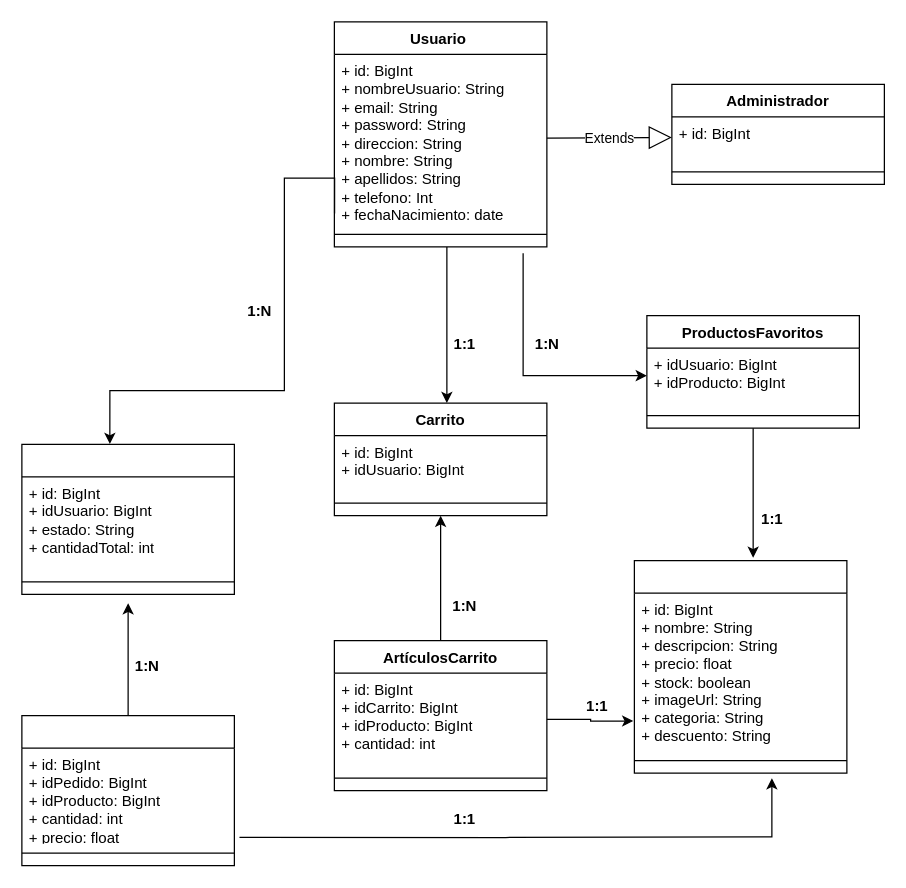
This 906x888 diagram has some shape labels left out. Here are the shapes that lost their labels. From the top down, the box of each, then its label:
(21, 443, 234, 594): Pedido
(633, 559, 847, 773): Producto
(21, 714, 234, 866): ArtículosPedidos
